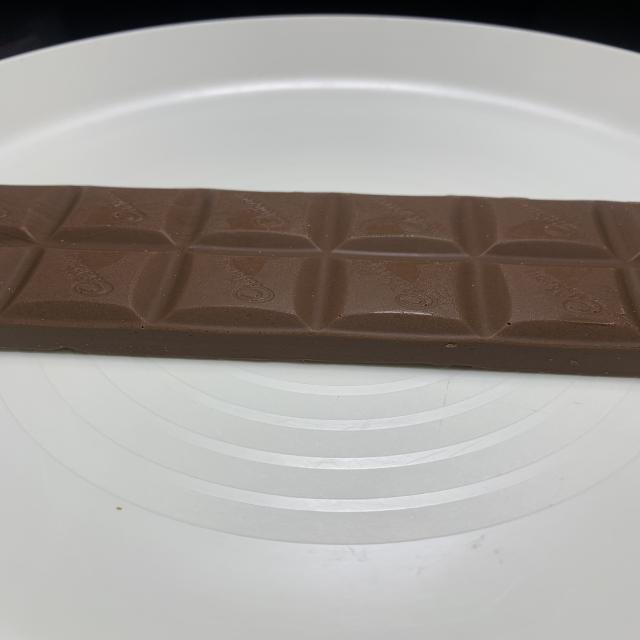Chocolate: (0, 181, 640, 379)
